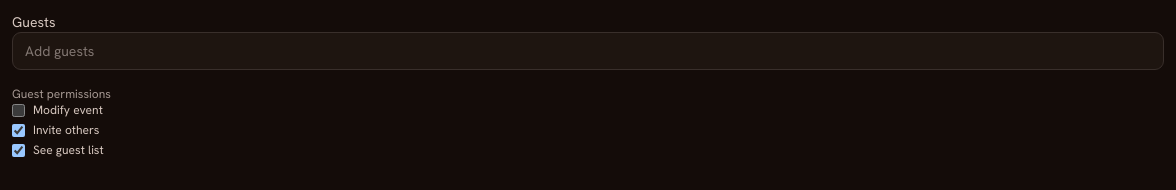
Test: GuestField, adding › never adds the organiser, on Google's list or not, and says why
In the dropdown labelled "Add guests": x=588, y=51 [12,32,1164,70], type "Me@x.org"
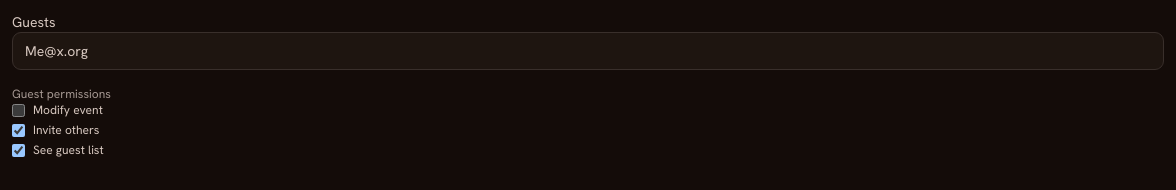
A pasted "To:" line with the organiser in it adds everyone else.
Press Enter in the dropdown named "Add guests", box [12,32,1164,70]
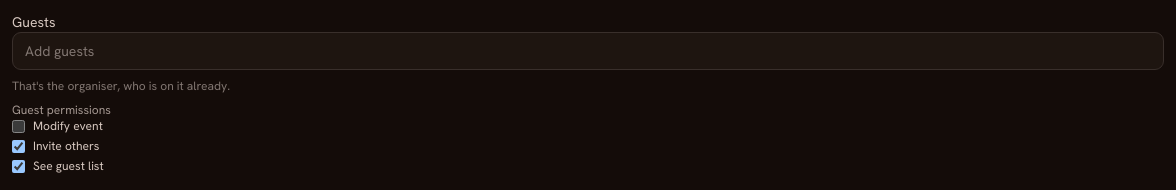
Expected: the message reads "That's the organiser, who is on it already.", [12,78,230,94]
Expected: the dropdown labelled "Add guests" is empty, [12,32,1164,70]
